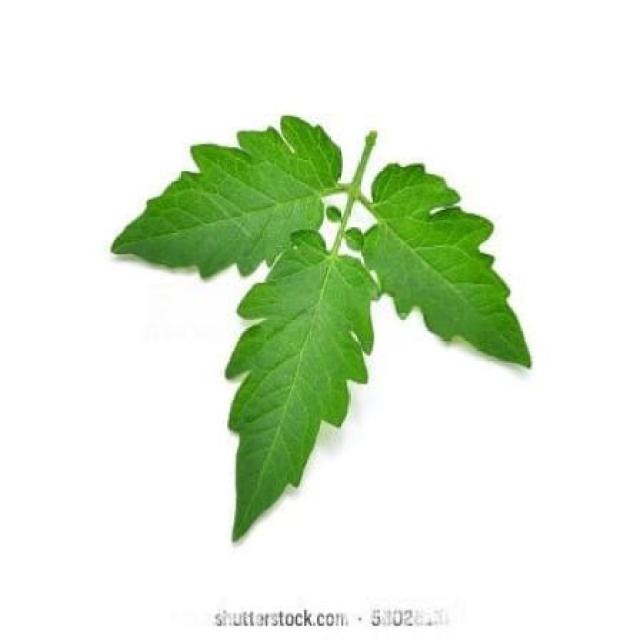Healthy: (226, 228, 381, 543), (109, 114, 344, 280), (362, 161, 532, 370)
